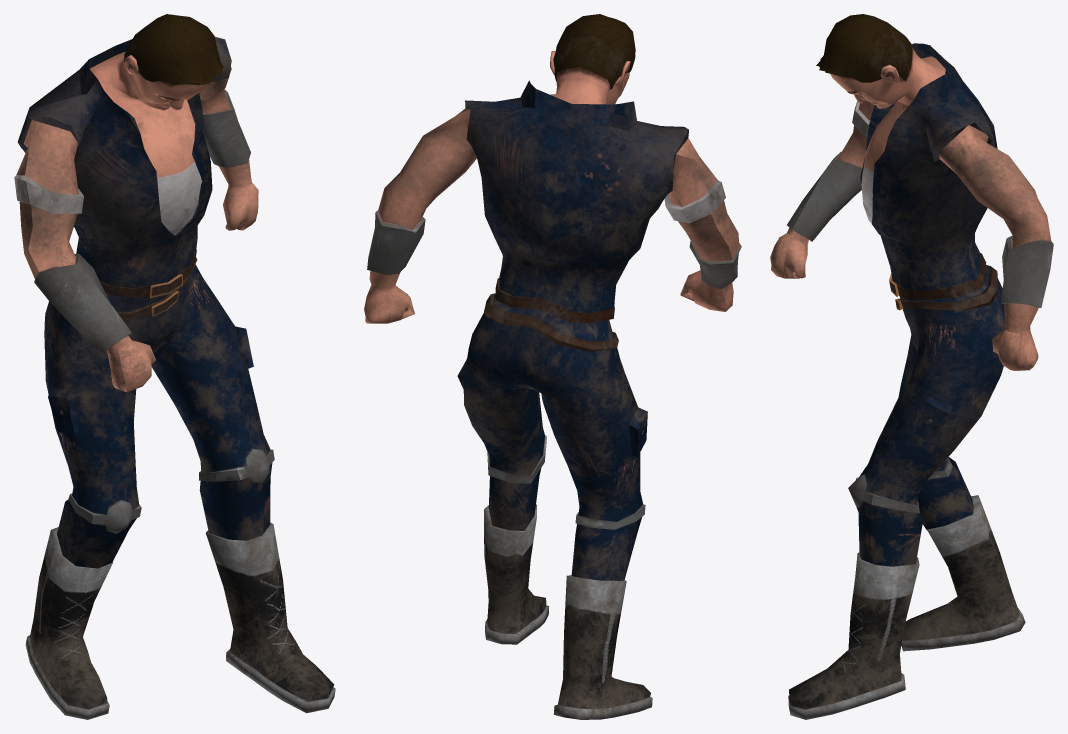
The model's file is Anim_coger_objeto_jugador.0034.obj.
3 renders of one model, left to right at view 1: azimuth 30°, elevation 25°; view 2: azimuth 150°, elevation 25°; view 3: azimuth 270°, elevation 25°, orthographic. The views are drawn at different scales.
Parts seen in each view (by area): view 1: polySurface1; view 2: polySurface1; view 3: polySurface1.
Boxes of the visible parts, x1,y1,x2,y2 form: polySurface1: (14, 14, 335, 719); polySurface1: (364, 14, 741, 719); polySurface1: (770, 14, 1053, 719).
Size of the model in its own units: 4.3 by 9.18 by 3.6.
